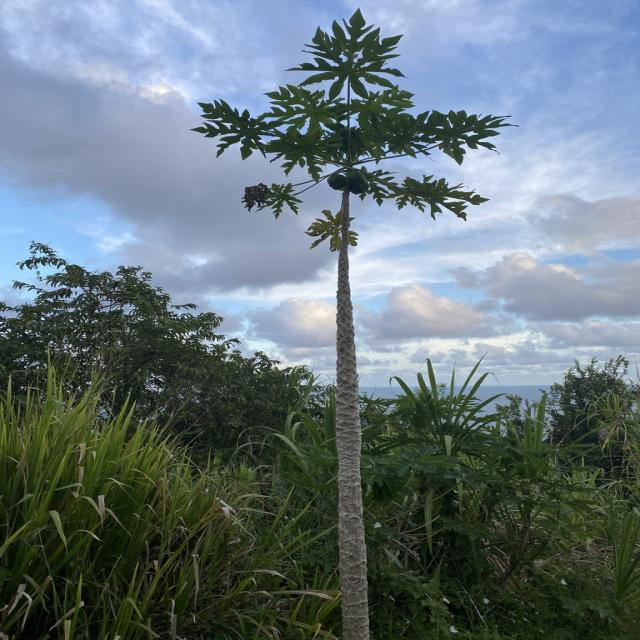Papaya-Tree: (148, 7, 522, 640)
